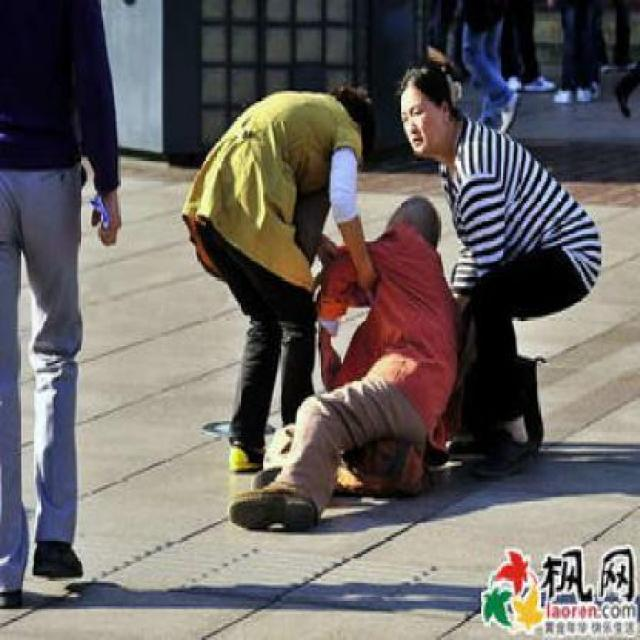fall: (224, 184, 465, 528)
